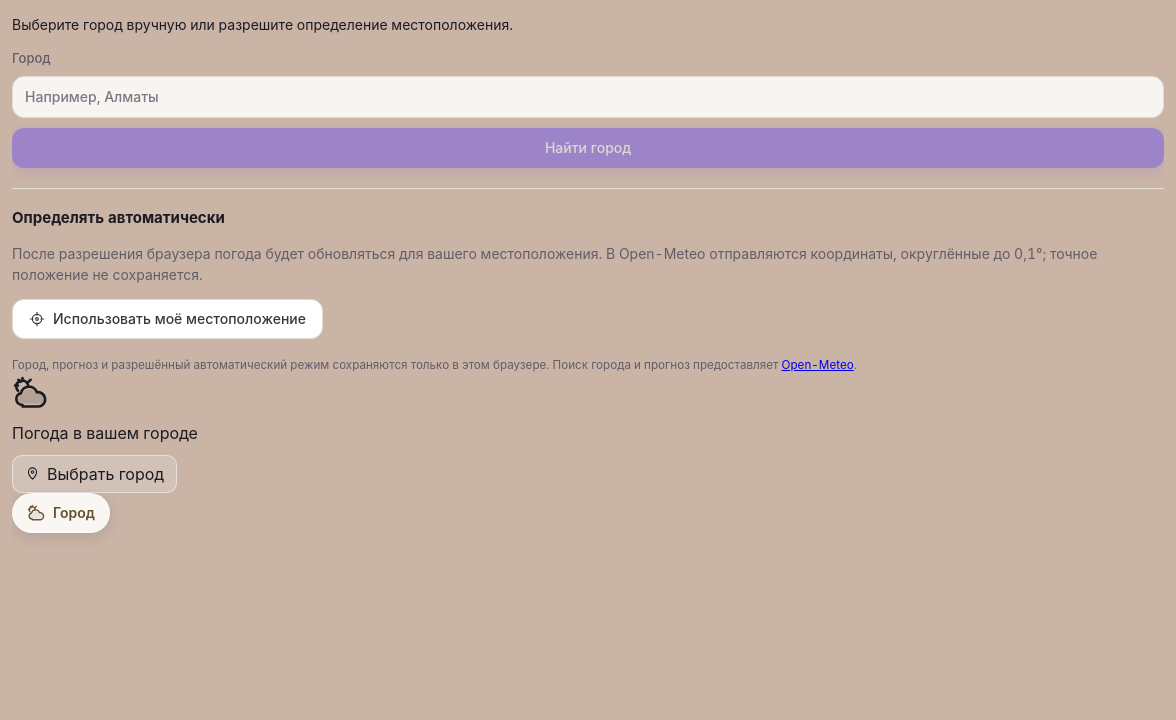
it: weather settings and shared displays › shows permission denial and offers manual city entry without repeated prompts
This screenshot has width=1176, height=720.
Click the button "Использовать моё местоположение" at [168, 319], box [12, 299, 323, 339]
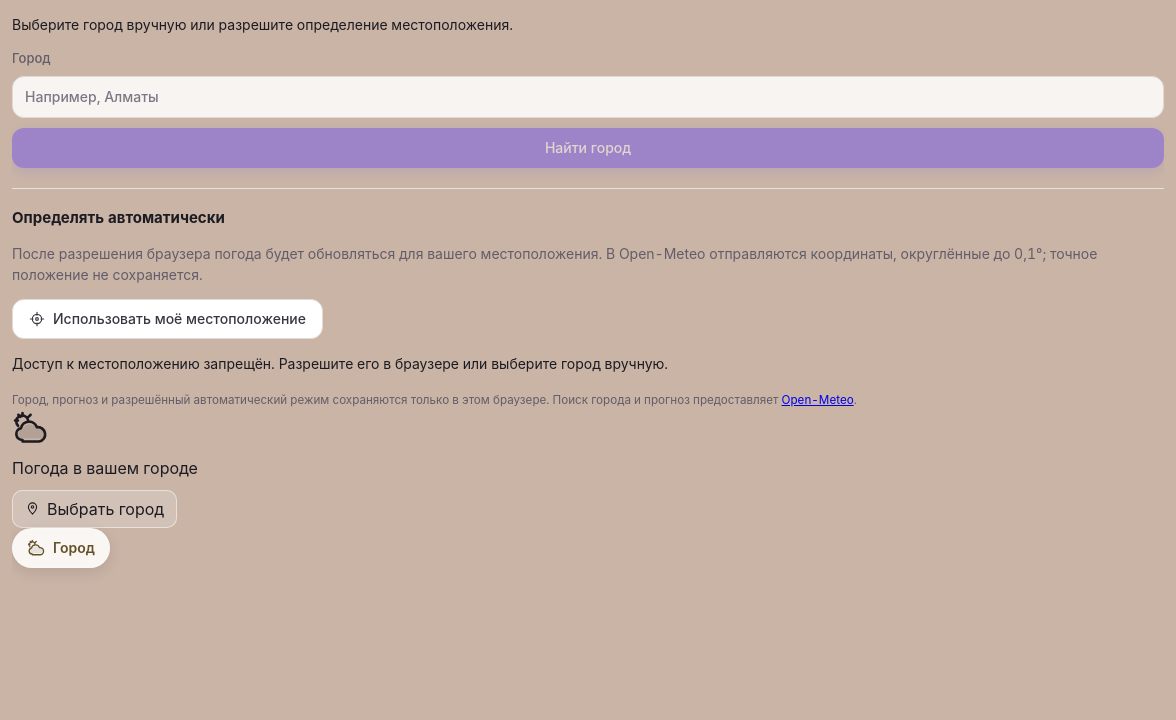
Expected: the search field labelled "Город" is enabled, [12, 76, 1164, 118]
Result: the text "Доступ к местоположению запрещён" is shown at [12, 355, 668, 372]
